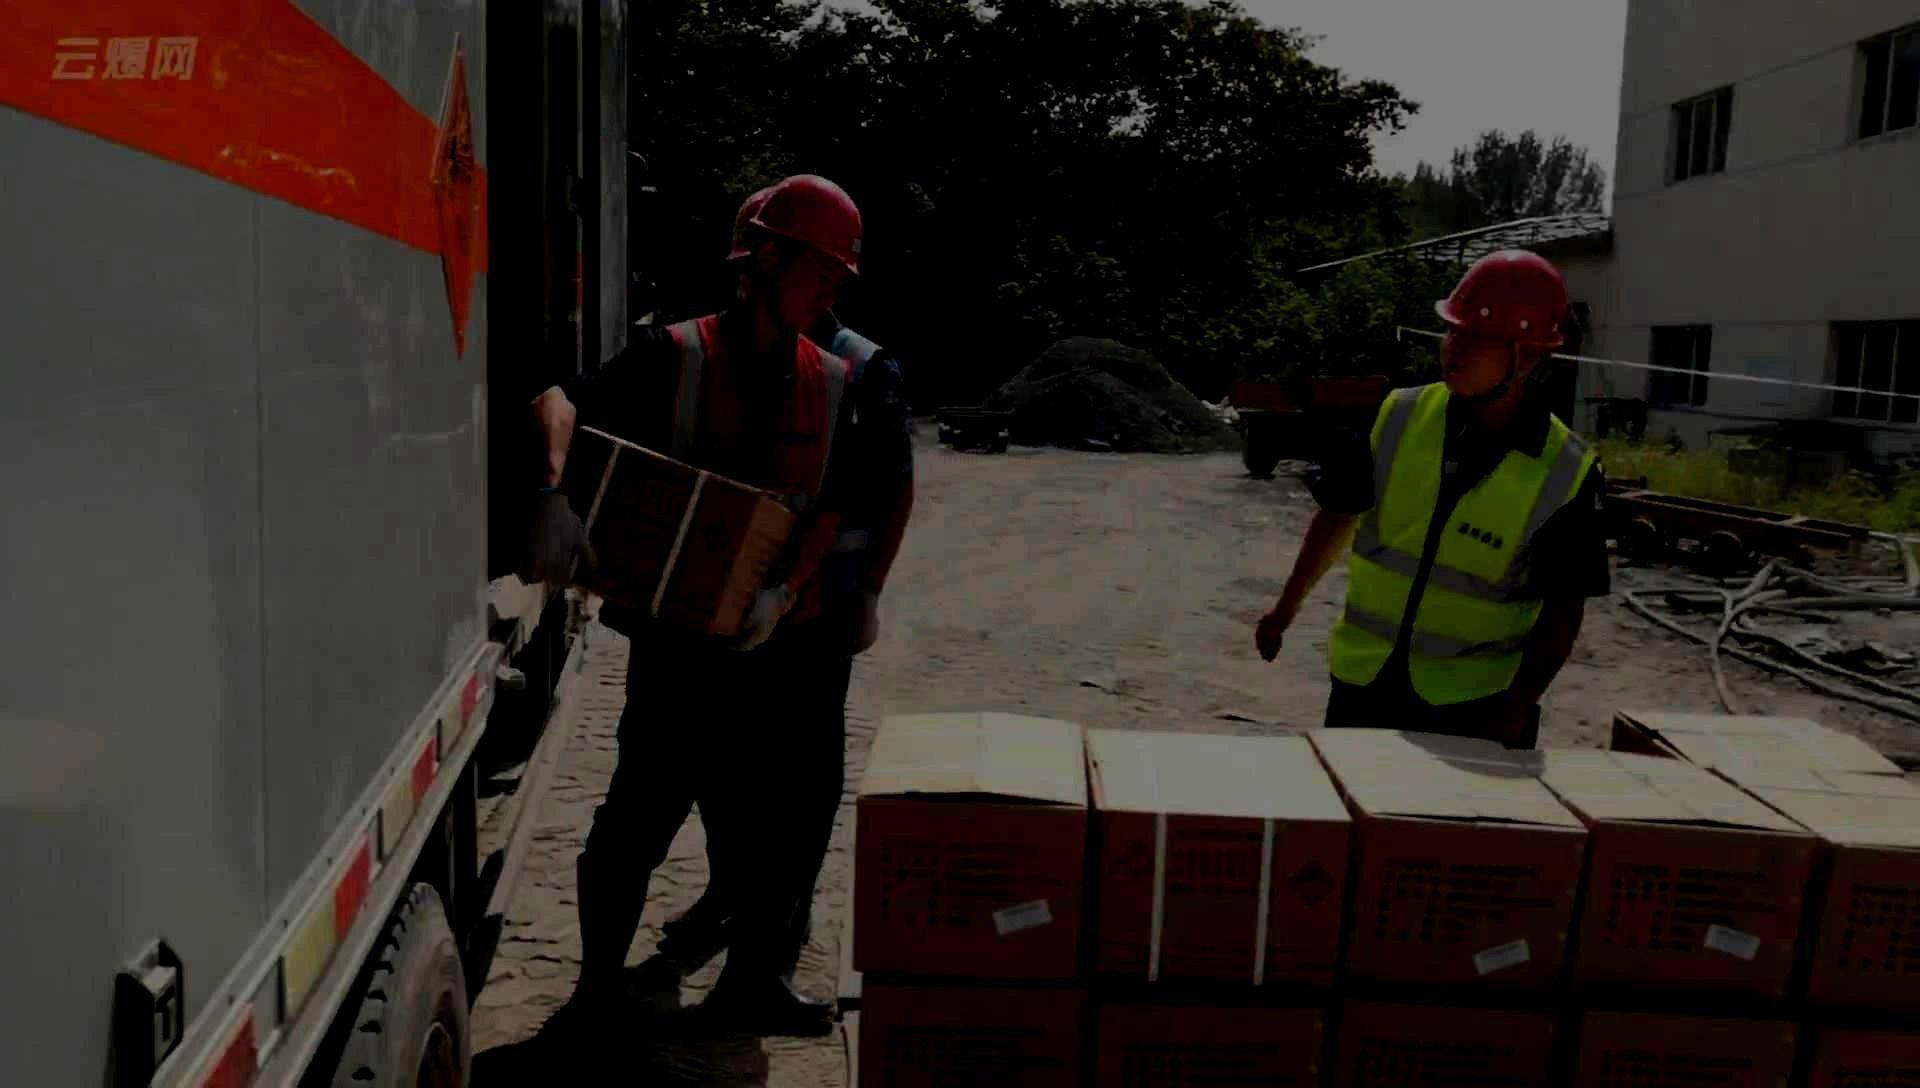helmet: (1433, 248, 1569, 397), (748, 173, 861, 332), (724, 186, 778, 303)
